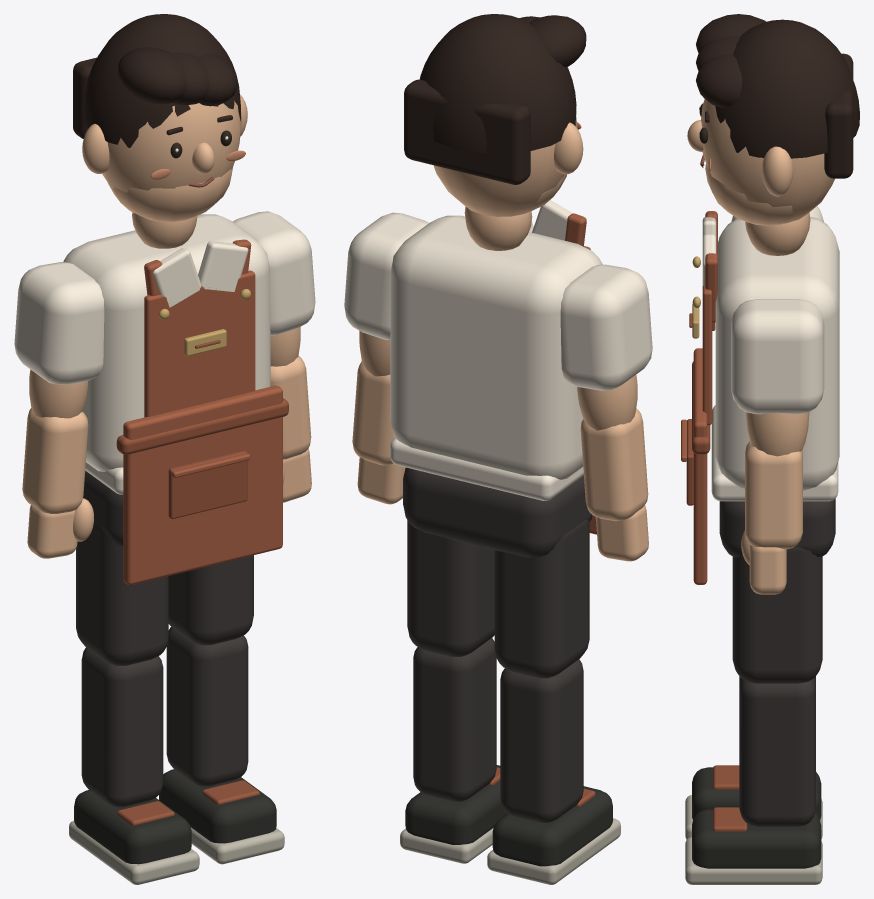
Rendered from cashier.glb.
3 views of the same model, side by side, from view 1: azimuth 30°, elevation 25°; view 2: azimuth 150°, elevation 25°; view 3: azimuth 270°, elevation 25° (orthographic). The views are drawn at different scales.
Visible parts, largest first — view 1: Spine_crew_apron, Spine_crew_shirt, Head_crew_hair, Head_crew_skin, LeftKnee_crew_trousers, RightKnee_crew_trousers, LeftShoulder_crew_shirt, LeftHip_crew_trousers, RightHip_crew_trousers, Spine_crew_seam, LeftElbow_crew_skin, RightShoulder_crew_shirt (+14 smaller); view 2: Spine_crew_shirt, Head_crew_hair, LeftKnee_crew_trousers, RightKnee_crew_trousers, LeftHip_crew_trousers, Hips_crew_trousers, LeftShoulder_crew_shirt, RightHip_crew_trousers, LeftElbow_crew_skin, Head_crew_skin, RightShoulder_crew_shirt, LeftAnkle_crew_shoes (+10 smaller); view 3: Head_crew_hair, Spine_crew_shirt, RightKnee_crew_trousers, RightShoulder_crew_shirt, RightHip_crew_trousers, Head_crew_skin, RightAnkle_crew_shoes, RightElbow_crew_skin, Spine_crew_apron, Hips_crew_trousers, RightAnkle_crew_soles, RightShoulder_crew_skin (+8 smaller).
Part boxes in pixels (bbox=[...]): Spine_crew_apron: bbox=[123, 239, 282, 584]; Spine_crew_shirt: bbox=[63, 214, 270, 494]; Head_crew_hair: bbox=[73, 14, 240, 147]; Head_crew_skin: bbox=[82, 94, 247, 221]; LeftKnee_crew_trousers: bbox=[81, 647, 163, 807]; RightKnee_crew_trousers: bbox=[166, 626, 248, 786]; LeftShoulder_crew_shirt: bbox=[14, 262, 104, 385]; LeftHip_crew_trousers: bbox=[76, 521, 168, 665]; RightHip_crew_trousers: bbox=[168, 555, 253, 645]; Spine_crew_seam: bbox=[116, 340, 288, 518]; LeftElbow_crew_skin: bbox=[22, 408, 88, 513]; RightShoulder_crew_shirt: bbox=[232, 211, 315, 335]; Spine_crew_shirt: bbox=[390, 200, 602, 500]; Head_crew_hair: bbox=[404, 14, 586, 184]; LeftKnee_crew_trousers: bbox=[500, 659, 583, 822]; RightKnee_crew_trousers: bbox=[413, 638, 496, 801]; LeftHip_crew_trousers: bbox=[494, 519, 589, 678]; Hips_crew_trousers: bbox=[403, 467, 592, 557]; LeftShoulder_crew_shirt: bbox=[560, 264, 652, 390]; RightHip_crew_trousers: bbox=[407, 520, 494, 656]; LeftElbow_crew_skin: bbox=[580, 408, 648, 521]; Head_crew_skin: bbox=[433, 115, 583, 216]; RightShoulder_crew_shirt: bbox=[344, 212, 428, 339]; LeftAnkle_crew_shoes: bbox=[492, 786, 612, 866]; Head_crew_hair: bbox=[696, 14, 859, 178]; Spine_crew_shirt: bbox=[702, 216, 839, 501]; RightKnee_crew_trousers: bbox=[739, 677, 815, 826]; RightShoulder_crew_shirt: bbox=[731, 299, 824, 414]; RightHip_crew_trousers: bbox=[732, 547, 822, 683]; Head_crew_skin: bbox=[687, 99, 834, 225]; RightAnkle_crew_shoes: bbox=[692, 809, 821, 868]; RightElbow_crew_skin: bbox=[745, 441, 802, 549]; Spine_crew_apron: bbox=[681, 211, 717, 584]; Hips_crew_trousers: bbox=[719, 499, 835, 557]; RightAnkle_crew_soles: bbox=[685, 837, 822, 884]; RightShoulder_crew_skin: bbox=[746, 412, 809, 456].
Bounding box in the file's own units: 0.6081 × 1.72 × 0.3389.
